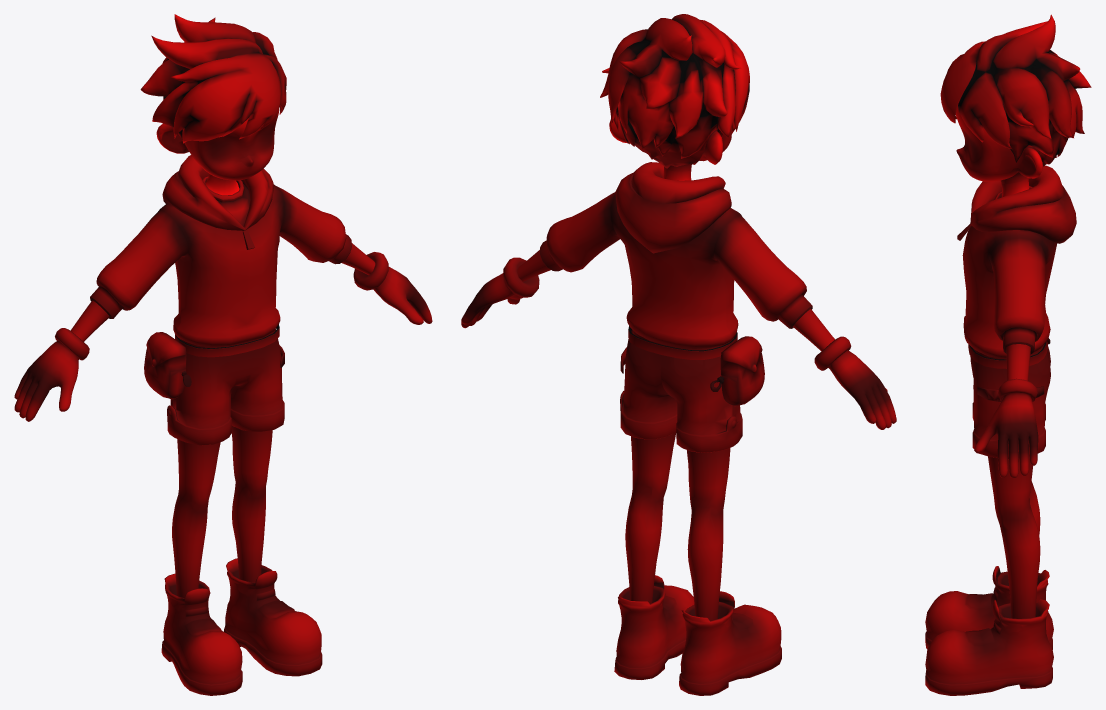
Rendered from Mesh_Char_Gym_Male.fbx.
3 renders of one model, left to right at view 1: azimuth 30°, elevation 25°; view 2: azimuth 150°, elevation 25°; view 3: azimuth 270°, elevation 25°, orthographic. The views are drawn at different scales.
Parts seen in each view (by area): view 1: Mesh_Char_Gym_Male_Body, Mesh_Char_Gym_Male_Face; view 2: Mesh_Char_Gym_Male_Body, Mesh_Char_Gym_Male_Face; view 3: Mesh_Char_Gym_Male_Body, Mesh_Char_Gym_Male_Face.
Part boxes in pixels (bbox=[...]): Mesh_Char_Gym_Male_Body: bbox=[14, 14, 432, 695]; Mesh_Char_Gym_Male_Face: bbox=[156, 109, 279, 195]; Mesh_Char_Gym_Male_Body: bbox=[461, 14, 896, 695]; Mesh_Char_Gym_Male_Face: bbox=[609, 117, 731, 180]; Mesh_Char_Gym_Male_Body: bbox=[925, 14, 1091, 695]; Mesh_Char_Gym_Male_Face: bbox=[956, 106, 1042, 197].
Bounding box in the file's own units: 112 × 165 × 39.27.
